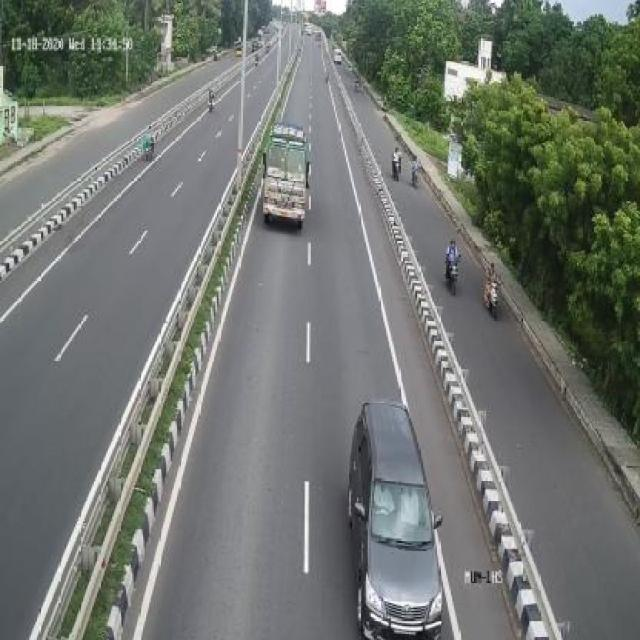car: (345, 392, 452, 632)
